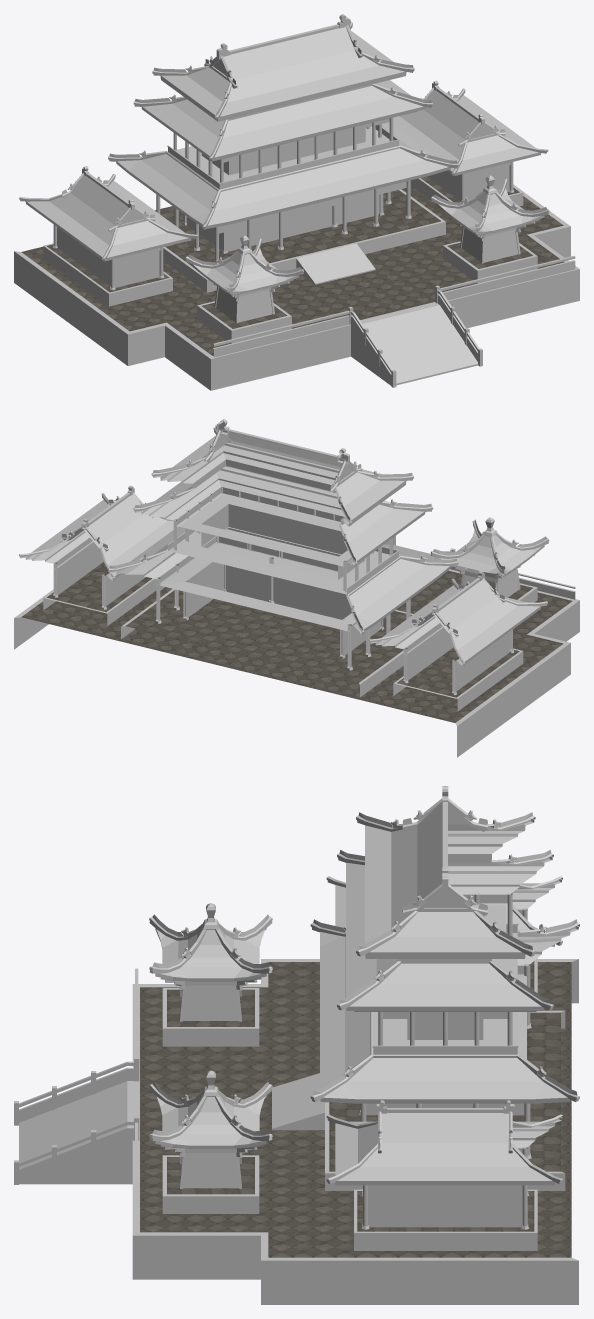
File: s7_3d_jz_guanfu.FBX
3 renders of one model, top to bottom at view 1: azimuth 30°, elevation 25°; view 2: azimuth 150°, elevation 25°; view 3: azimuth 270°, elevation 25°, orthographic. The views are drawn at different scales.
Parts seen in each view (by area): view 1: s7_3d_jz_guanfu_01, s7_3d_jz_guanfu_05; view 2: s7_3d_jz_guanfu_01, s7_3d_jz_guanfu_05; view 3: s7_3d_jz_guanfu_01, s7_3d_jz_guanfu_05.
Part boxes in pixels (x1,y1,x2,y2): s7_3d_jz_guanfu_01: (14, 14, 579, 390); s7_3d_jz_guanfu_05: (21, 176, 564, 355); s7_3d_jz_guanfu_01: (14, 419, 579, 757); s7_3d_jz_guanfu_05: (21, 553, 572, 722); s7_3d_jz_guanfu_01: (14, 786, 579, 1304); s7_3d_jz_guanfu_05: (140, 961, 571, 1257).
Bounding box in the file's own units: 9888 × 4959 × 7781.
